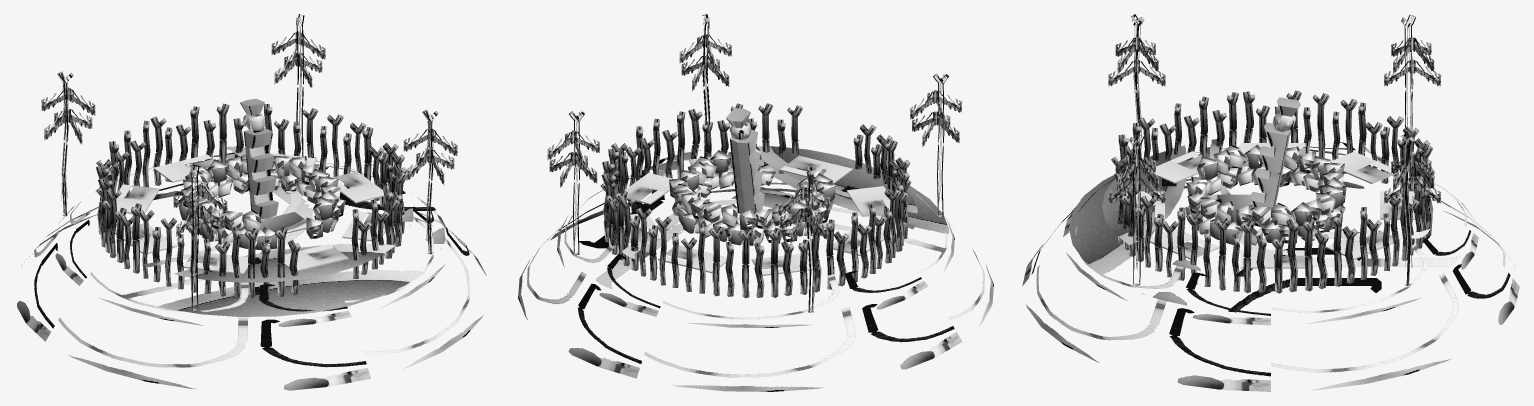
The model's file is lepun.dae.
3 views of the same model, side by side, from view 1: azimuth 30°, elevation 25°; view 2: azimuth 150°, elevation 25°; view 3: azimuth 270°, elevation 25° (orthographic). The views are drawn at different scales.
Parts seen in each view (by area): view 1: lepun; view 2: lepun; view 3: lepun.
Boxes of the visible parts, <box> form: lepun: <box>17,14,486,390</box>; lepun: <box>518,14,993,391</box>; lepun: <box>1022,14,1519,391</box>.
Bounding box in the file's own units: 22.33 × 22.33 × 10.34.
